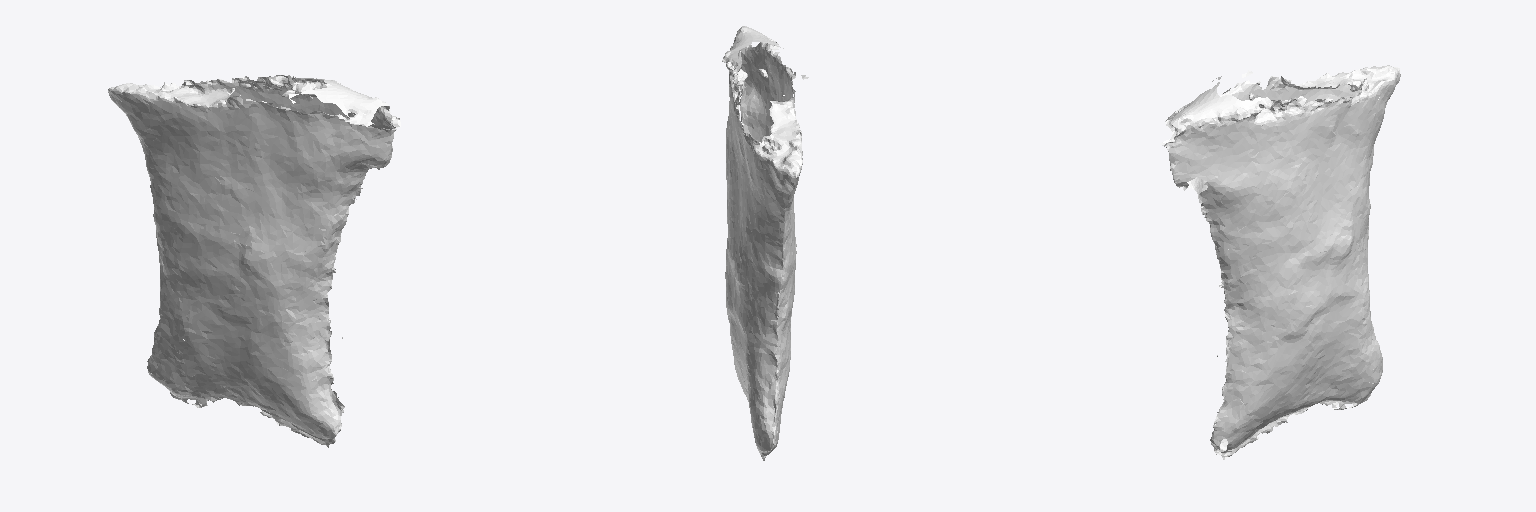
File: try2.obj
3 renders of one model, left to right at view 1: azimuth 30°, elevation 25°; view 2: azimuth 150°, elevation 25°; view 3: azimuth 270°, elevation 25°, orthographic.
Size of the model in its own units: 0.3663 by 0.7199 by 0.4313.